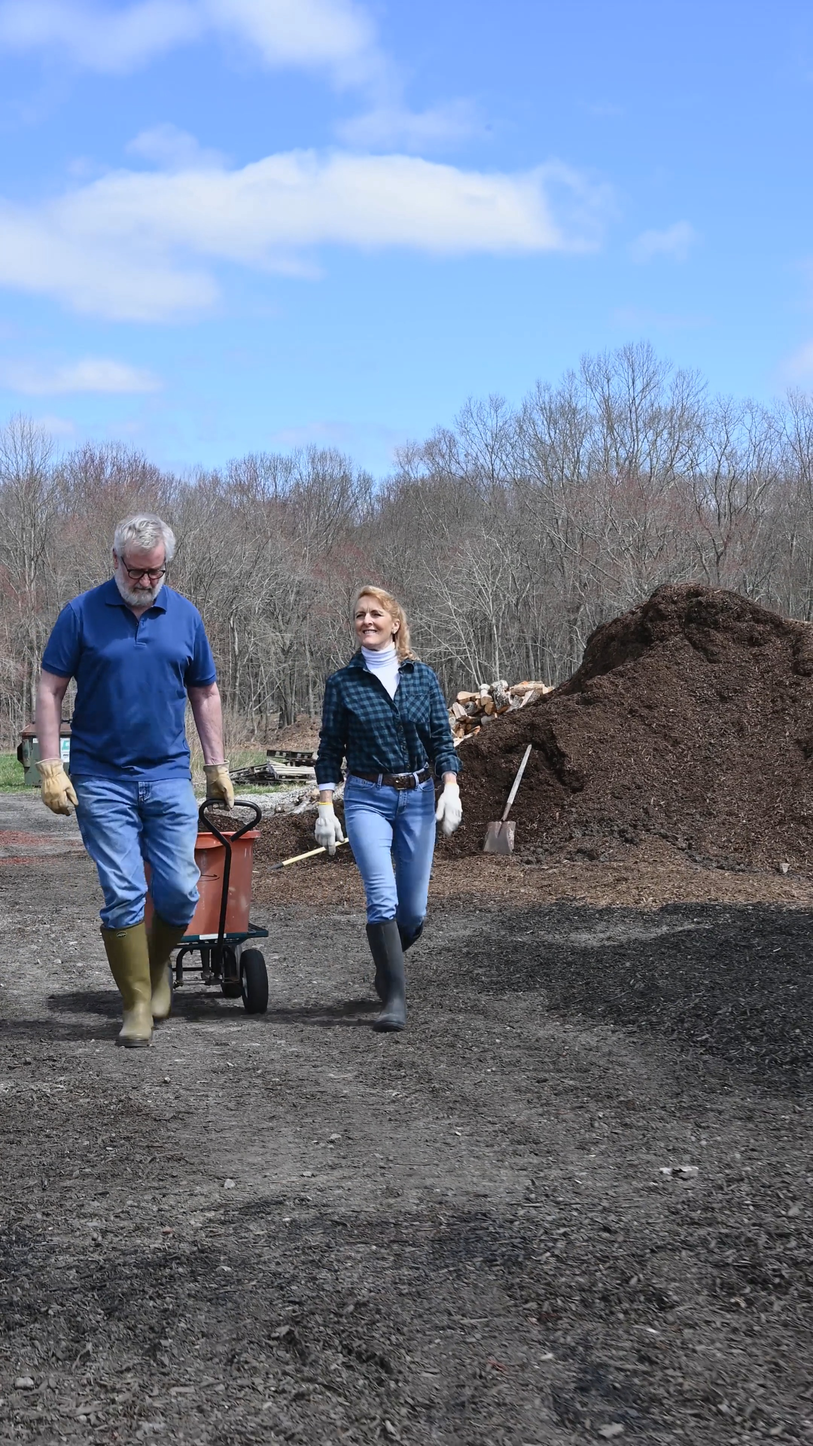gloves: (25, 754, 88, 827), (432, 772, 480, 849), (303, 800, 354, 859), (188, 761, 247, 808)
